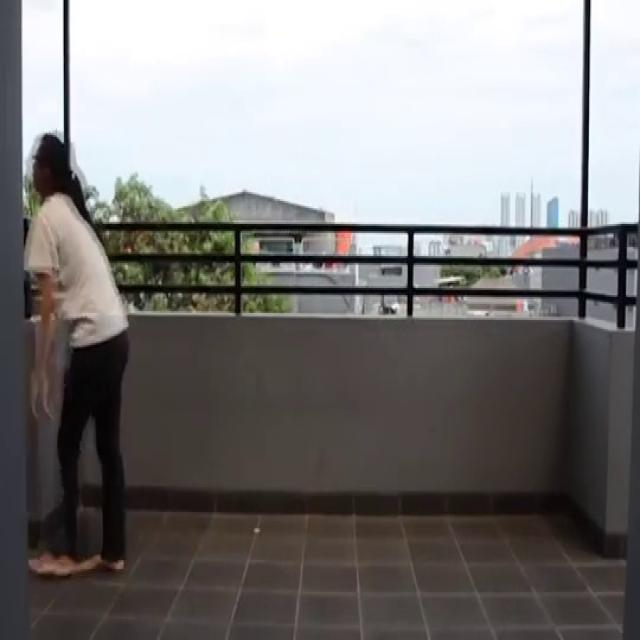normal: (7, 114, 133, 583)
